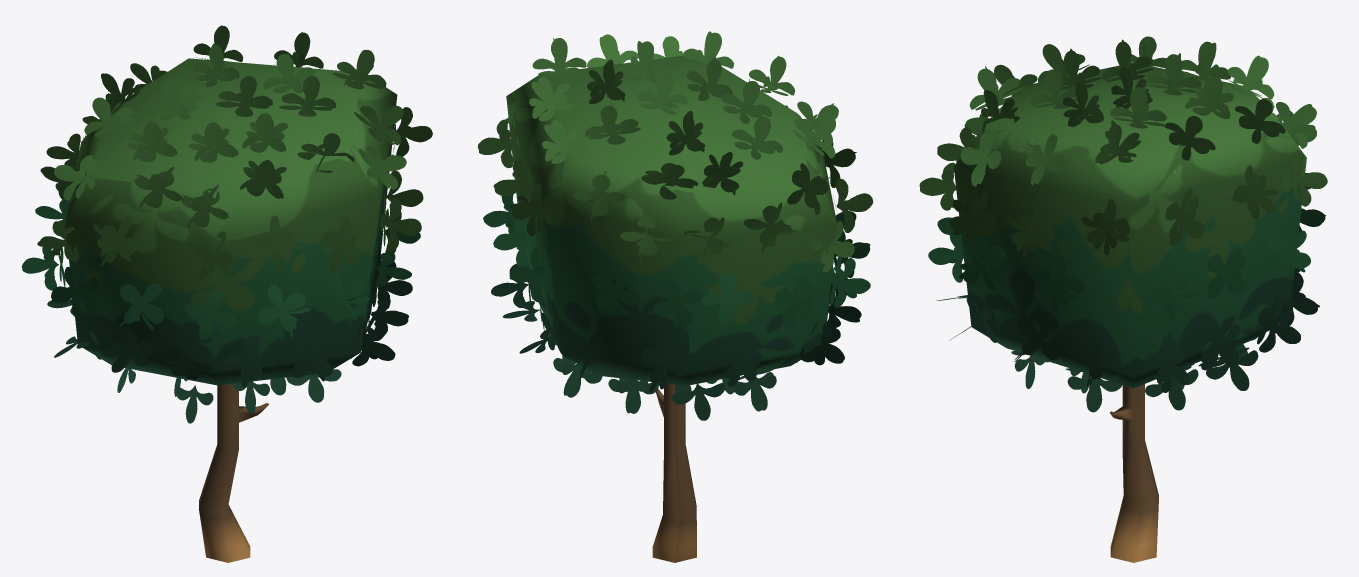
Rendered from tree_01_1.fbx.
3 views of the same model, side by side, from view 1: azimuth 30°, elevation 25°; view 2: azimuth 150°, elevation 25°; view 3: azimuth 270°, elevation 25° (orthographic). The views are drawn at different scales.
Parts seen in each view (by area): view 1: body, leaves, trunk; view 2: body, leaves, trunk; view 3: body, leaves, trunk.
Part boxes in pixels (x1=…): body: x1=65, y1=58, x2=397, y2=385; leaves: x1=22, y1=25, x2=432, y2=423; trunk: x1=199, y1=383, x2=268, y2=562; body: x1=506, y1=55, x2=837, y2=385; leaves: x1=477, y1=31, x2=873, y2=420; trunk: x1=652, y1=384, x2=696, y2=562; body: x1=954, y1=62, x2=1306, y2=388; leaves: x1=919, y1=36, x2=1327, y2=412; trunk: x1=1110, y1=384, x2=1158, y2=562.
Size of the model in its own units: 260 by 308 by 237.
1 material, 1 textured.
